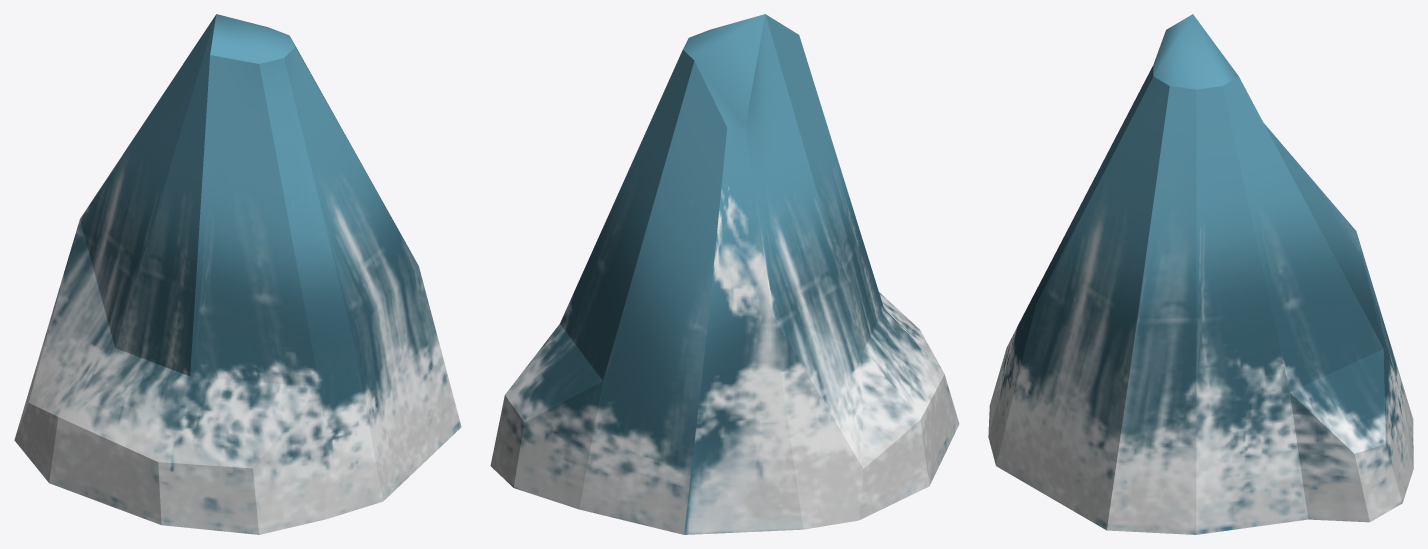
The model's file is ms_iceShape08.fbx.
3 renders of one model, left to right at view 1: azimuth 30°, elevation 25°; view 2: azimuth 150°, elevation 25°; view 3: azimuth 270°, elevation 25°, orthographic. The views are drawn at different scales.
Parts seen in each view (by area): view 1: polySurface7; view 2: polySurface7; view 3: polySurface7.
Boxes of the visible parts, x1=… form: polySurface7: x1=14, y1=14, x2=461, y2=534; polySurface7: x1=490, y1=14, x2=959, y2=534; polySurface7: x1=988, y1=14, x2=1413, y2=534.
Bounding box in the file's own units: 291 × 318 × 292.
